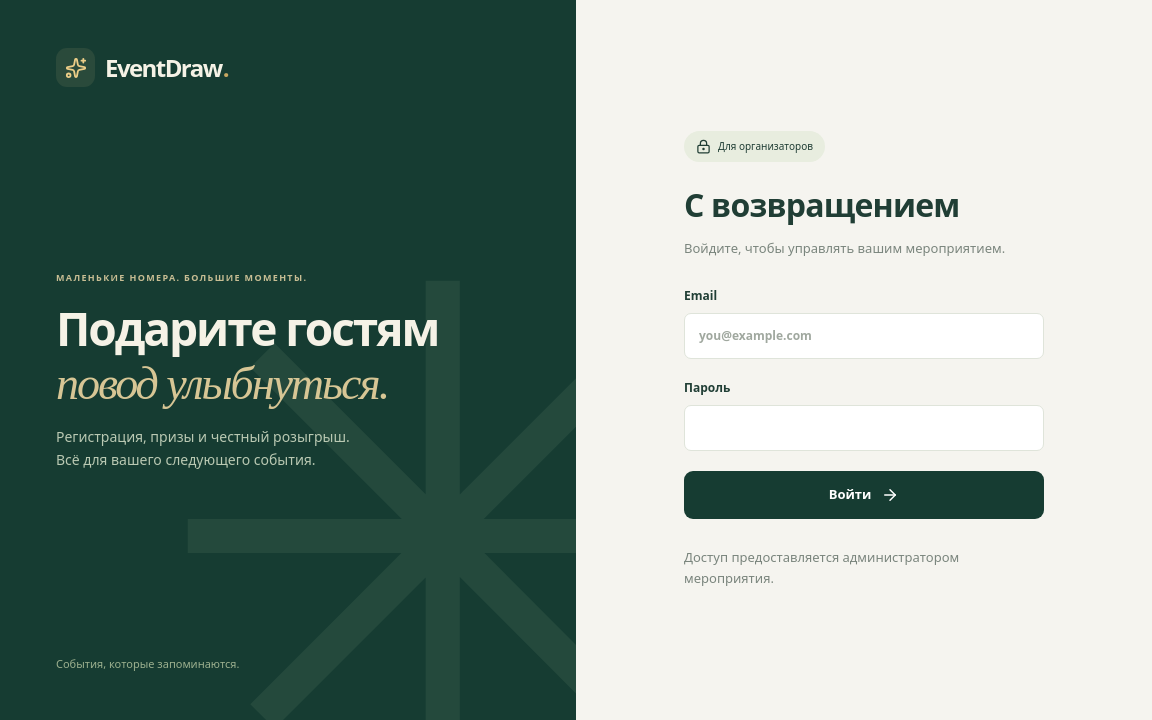
Test case: ends an unresponsive sign-in with a visible timeout instead of an endless disabled button
Step 1. Type "admin@example.test" into the field labelled "Email" → coordinates (864, 336), box [684, 314, 1044, 360]
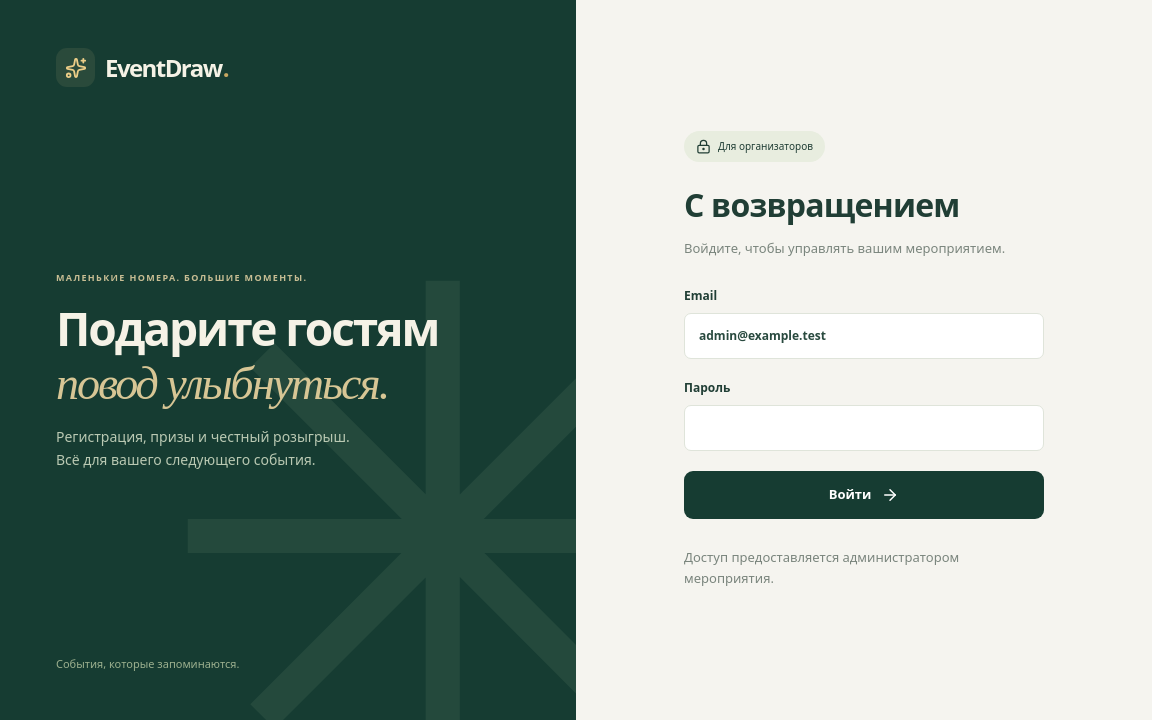
Step 2. Type "test-password" into the password field labelled "Пароль" → coordinates (864, 428), box [684, 406, 1044, 452]
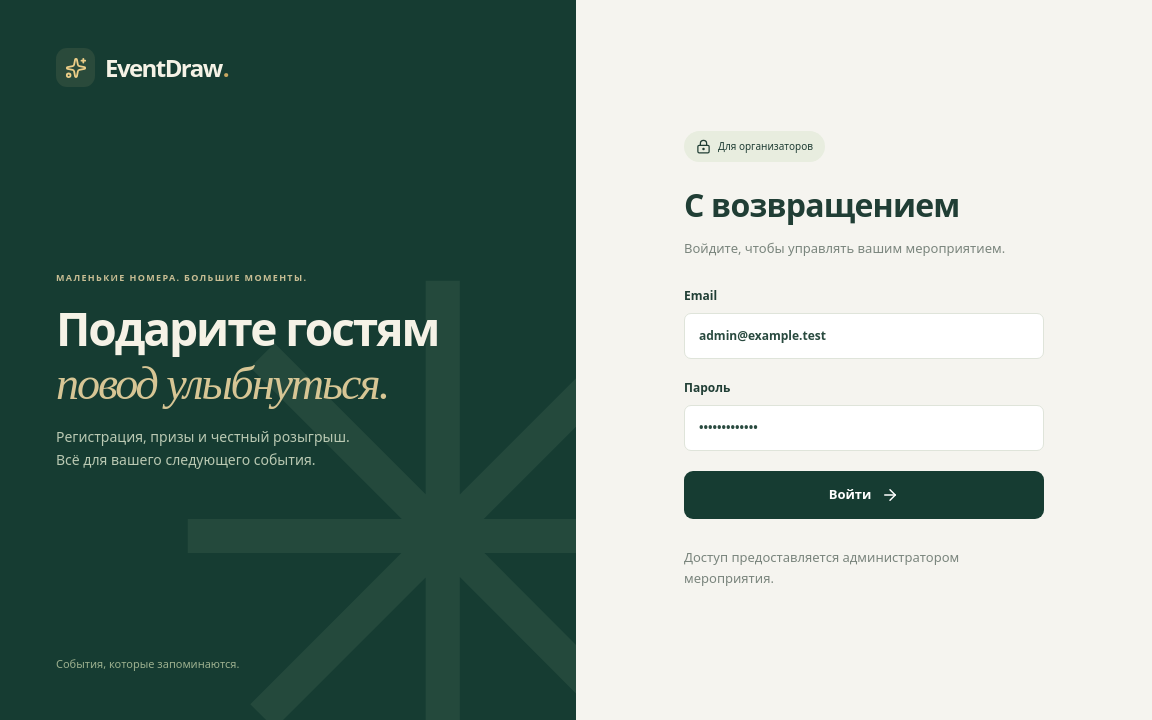
Step 3. Submit the form "Войти", box [684, 288, 1044, 519]
Wait 15000 ms
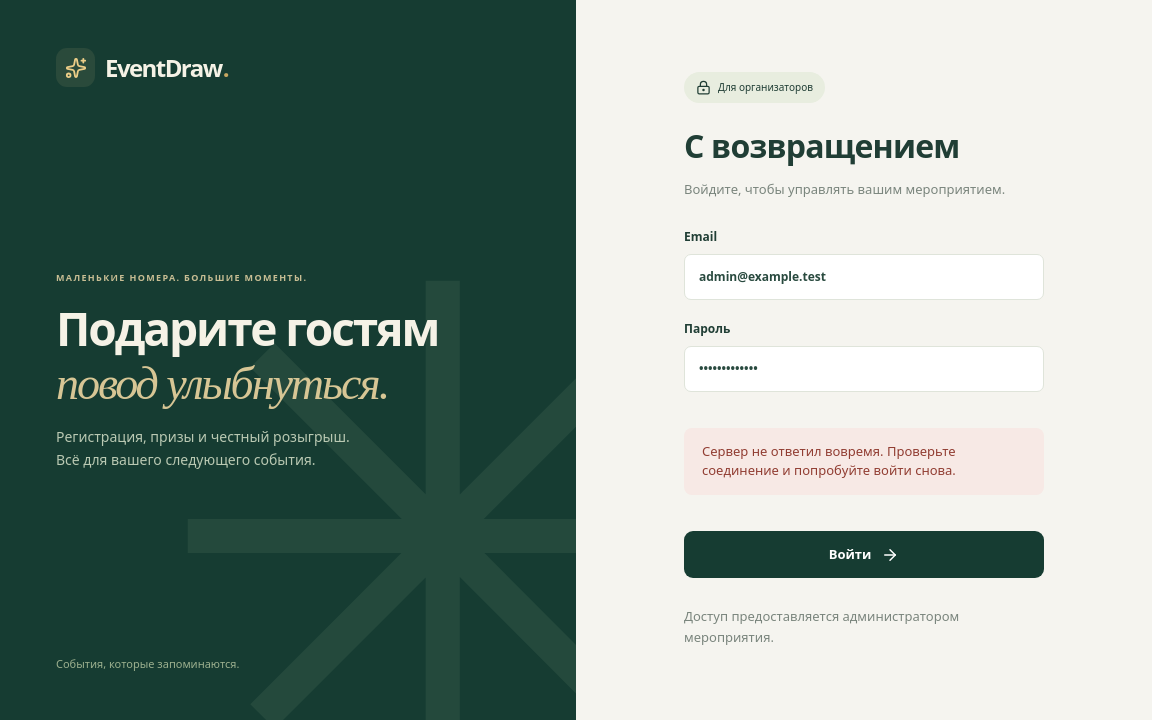
Check: the button "Войти" is enabled, box [684, 531, 1044, 578]
Check: the message shows "Сервер не ответил вовремя", box [702, 442, 956, 480]
